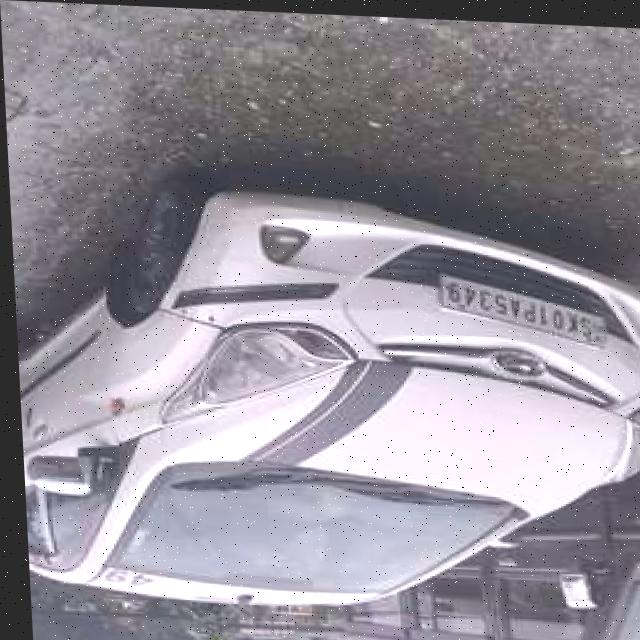plate: (430, 268, 611, 348)
